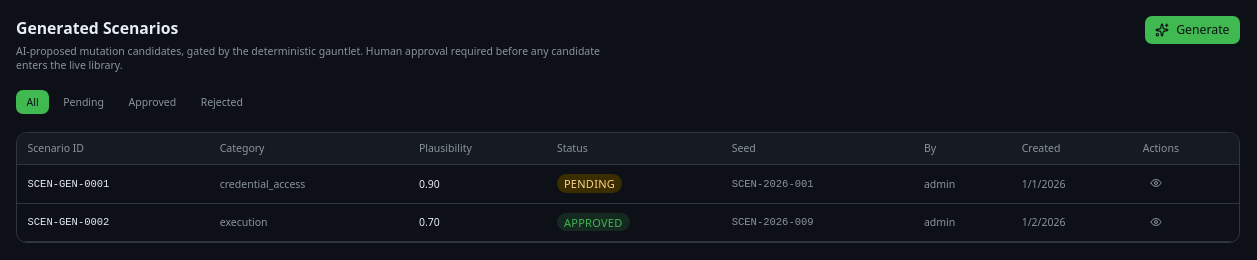
Scenario: Candidates page › filters to pending only
Expected: the text "SCEN-GEN-0002" is shown, top-left (17, 203), bottom-right (209, 242)
Click the tab "Pending".
click(84, 102)  # box top-left (53, 90), bottom-right (114, 114)
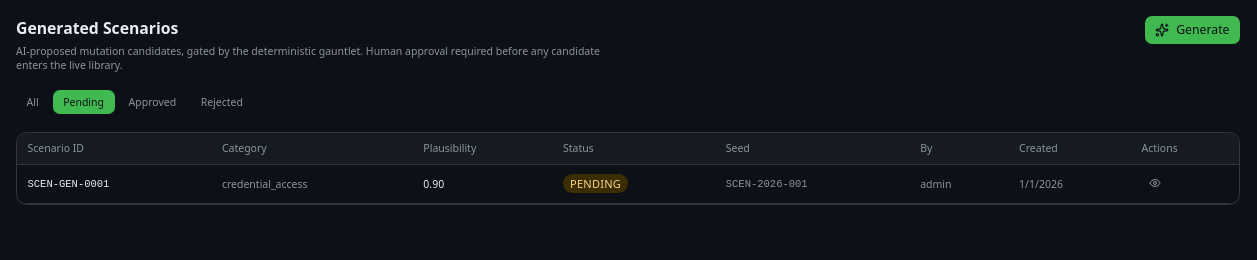
Expected: the text "SCEN-GEN-0001" is shown, top-left (17, 164), bottom-right (211, 203)
Now the text "SCEN-GEN-0002" is gone
